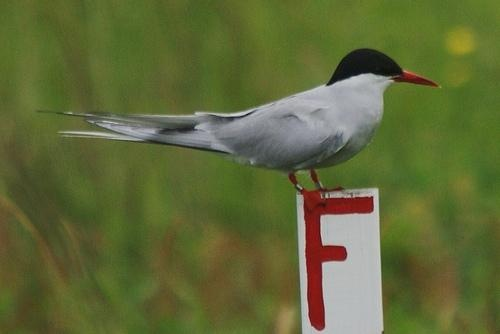bird: (33, 48, 444, 205)
